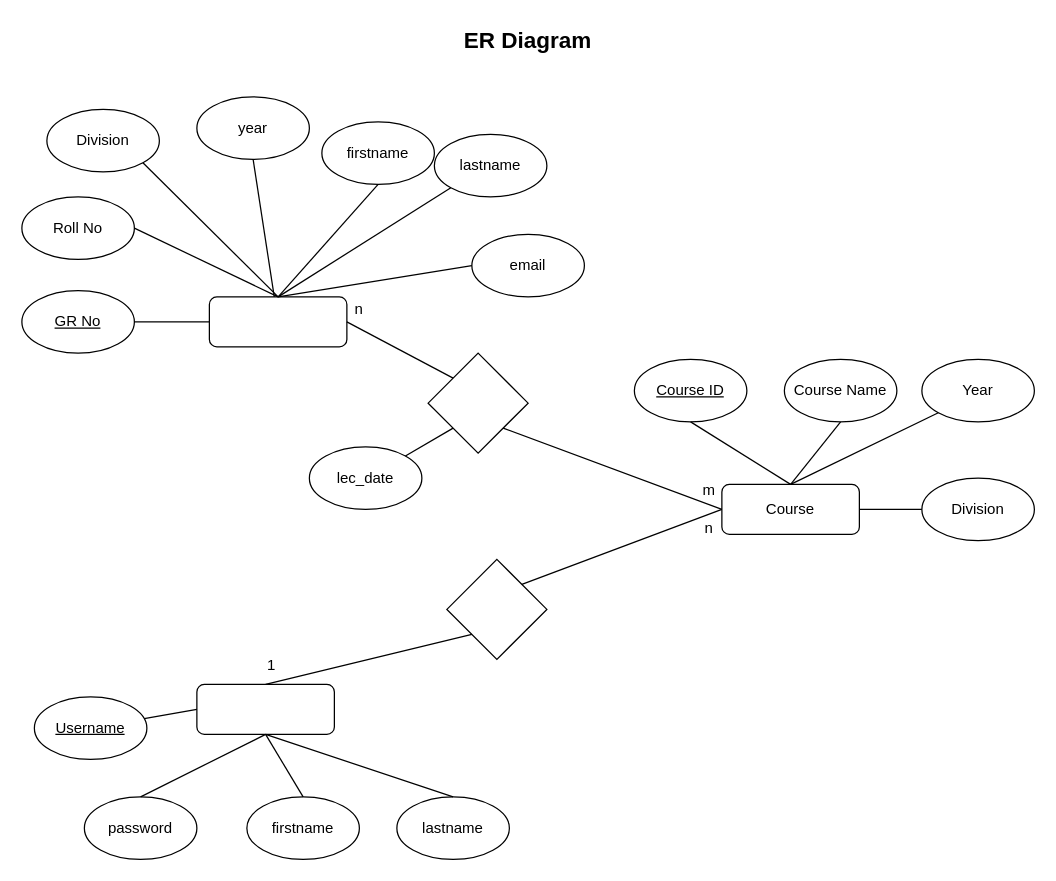
The diagram is 1056 pixels wide and 881 high, and some of its shapes have lost their labels. Here are the shapes that lost their labels. From the top down, the centre of each, then its label:
At (x=277, y=321): "Student".
At (x=477, y=402): "attends".
At (x=496, y=608): "conducts".
At (x=265, y=708): "Teacher".
